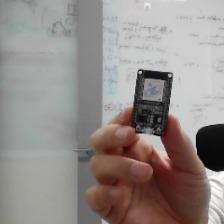esp32: (127, 63, 175, 136)
